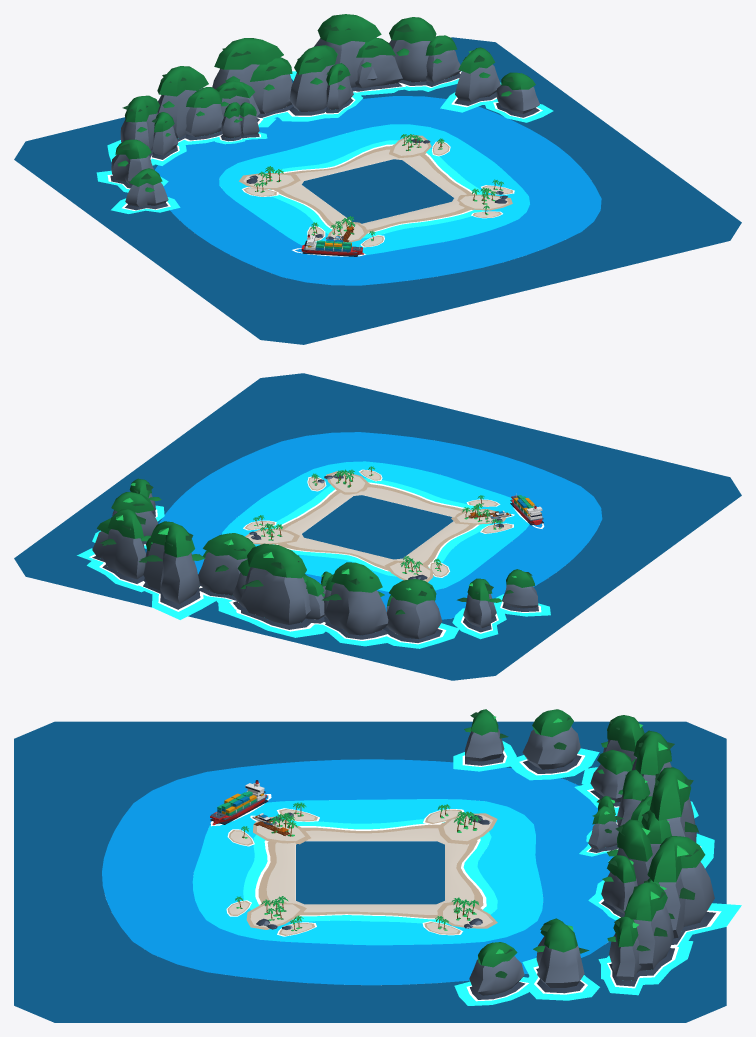
File: coastal_archipelago_base.glb
3 renders of one model, top to bottom at view 1: azimuth 30°, elevation 25°; view 2: azimuth 150°, elevation 25°; view 3: azimuth 270°, elevation 25°, orthographic. The views are drawn at different scales.
Visible parts, largest first — view 1: GEO_Archipelago_Terrain, GEO_Archipelago_Foliage, GEO_Archipelago_Vessels; view 2: GEO_Archipelago_Terrain, GEO_Archipelago_Foliage, GEO_Archipelago_Vessels; view 3: GEO_Archipelago_Terrain, GEO_Archipelago_Foliage, GEO_Archipelago_Vessels.
Part boxes in pixels (x1,y1,x2,y2): GEO_Archipelago_Terrain: [14, 37, 741, 344]; GEO_Archipelago_Foliage: [115, 14, 535, 240]; GEO_Archipelago_Vessels: [301, 234, 363, 256]; GEO_Archipelago_Terrain: [14, 373, 741, 680]; GEO_Archipelago_Foliage: [97, 466, 534, 614]; GEO_Archipelago_Vessels: [490, 493, 543, 525]; GEO_Archipelago_Terrain: [14, 721, 741, 1022]; GEO_Archipelago_Foliage: [235, 709, 705, 978]; GEO_Archipelago_Vessels: [210, 780, 275, 825].
Bounding box in the file's own units: 100 × 14.43 × 102.
